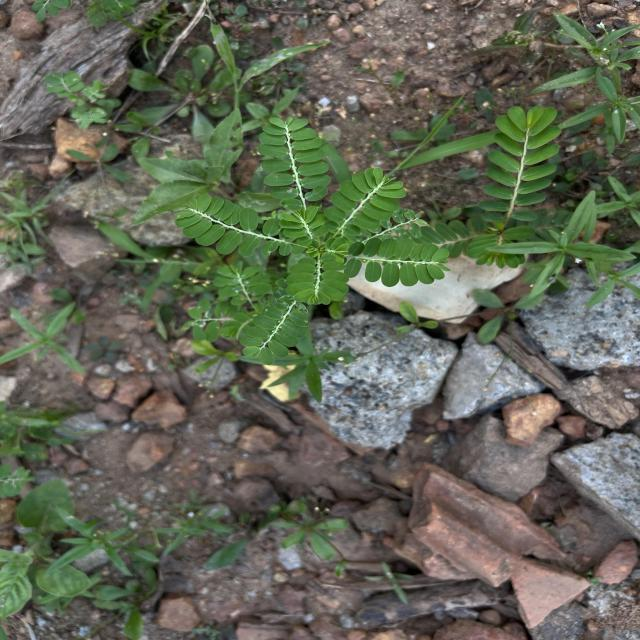Phyllanthus niruri: (480, 104, 561, 231), (170, 192, 296, 262), (255, 114, 332, 210), (328, 164, 408, 242), (344, 236, 455, 288), (232, 302, 312, 367), (283, 248, 353, 308)
